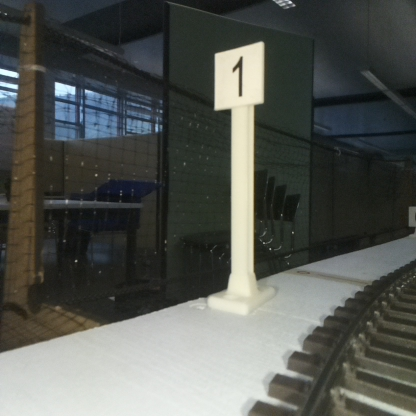white-info-1: (215, 43, 263, 306)
